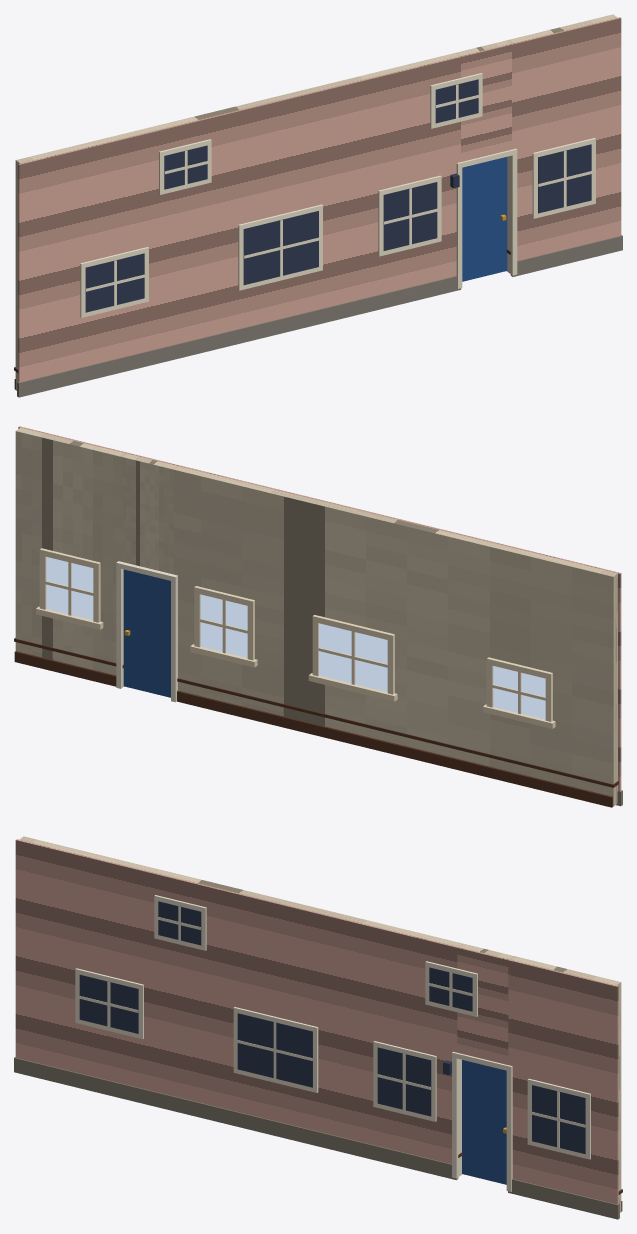
Rendered from front.glb.
3 views of the same model, one above another, from view 1: azimuth 30°, elevation 25°; view 2: azimuth 150°, elevation 25°; view 3: azimuth 330°, elevation 25° (orthographic).
Parts seen in each view (by area): view 1: Box6, Box8, Box7, Box14, Box10, Box40, Box1, Box29, Box18, Box51, Box9, Box39 (+10 smaller); view 2: Box1, Box3, Box5, Box14, Box2, Box70, Box47, Box25, Box36, Box58, Box71, Box6 (+9 smaller); view 3: Box6, Box8, Box7, Box14, Box10, Box40, Box29, Box18, Box51, Box1, Box9, Box39 (+10 smaller).
Boxes of the visible parts, box(x1,y1,x2,y2) form: Box6: box(18, 56, 460, 382); Box8: box(510, 17, 621, 275); Box7: box(17, 276, 461, 397); Box14: box(462, 157, 507, 281); Box10: box(460, 44, 511, 161); Box40: box(243, 211, 318, 285); Box1: box(15, 53, 459, 390); Box29: box(383, 182, 437, 250); Box18: box(538, 144, 591, 213); Box51: box(85, 253, 144, 312); Box9: box(512, 235, 622, 276); Box39: box(238, 204, 322, 290); Box1: box(173, 466, 617, 806); Box3: box(15, 427, 126, 675); Box5: box(123, 454, 177, 574); Box14: box(123, 569, 170, 697); Box2: box(177, 690, 612, 807); Box70: box(178, 683, 617, 806); Box47: box(319, 623, 387, 692); Box25: box(46, 557, 93, 620); Box36: box(200, 594, 247, 657); Box58: box(493, 666, 545, 719); Box71: box(177, 678, 618, 787); Box6: box(179, 465, 621, 791); Box6: box(15, 839, 458, 1179); Box8: box(508, 959, 618, 1204); Box7: box(14, 1057, 457, 1180); Box14: box(462, 1060, 506, 1184); Box10: box(457, 947, 508, 1064); Box40: box(237, 1013, 312, 1087); Box29: box(377, 1047, 431, 1116); Box18: box(532, 1085, 585, 1154); Box51: box(79, 974, 138, 1033); Box1: box(19, 836, 462, 946); Box9: box(508, 1179, 619, 1219); Box39: box(233, 1007, 318, 1092).
Bounding box in the file's own units: 11.27 × 4.14 × 0.395.
Materials: 10 (2 with a texture image).
